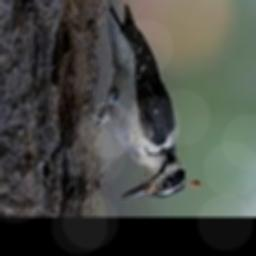Woodpecker: (91, 0, 201, 200)
